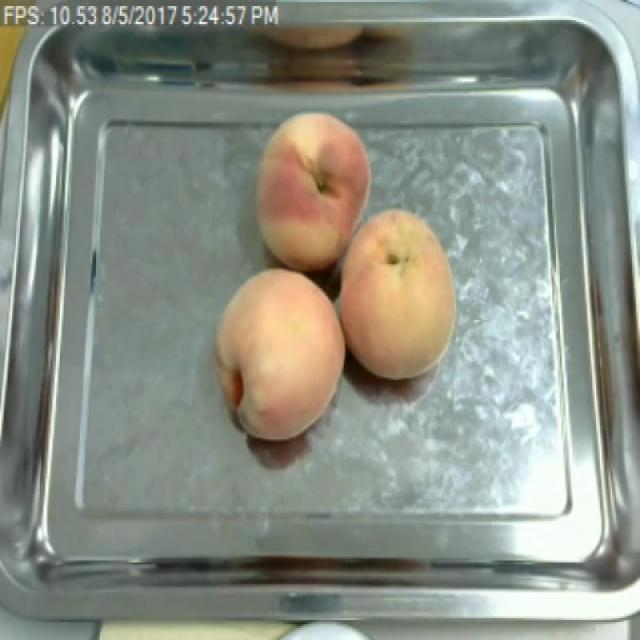Fruit: (205, 264, 352, 448), (332, 202, 463, 386), (248, 104, 379, 278)
